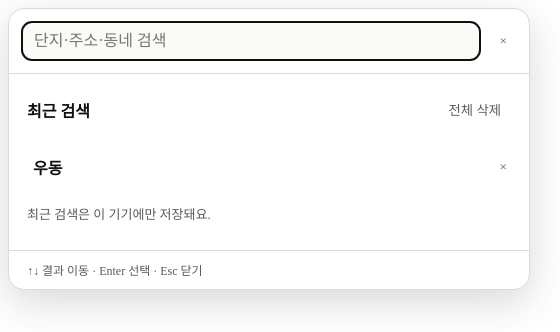
웹 검색 드롭다운 › 실패를 표시하고 재시도할 수 있다
This screenshot has width=560, height=332.
Type "해운대" into the dropdown at (251, 41), box [21,21,482,61]
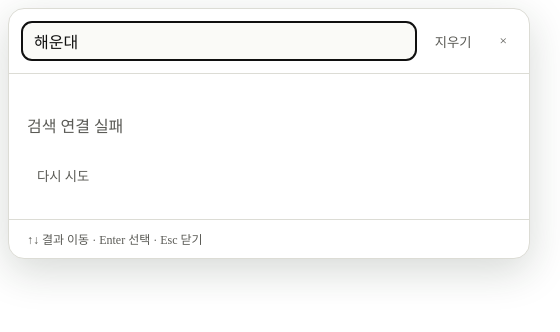
Expected: the text "검색 연결 실패" is shown, [27,118,123,135]
Click the button "다시 시도" at (63, 175), box [27,156,99,195]
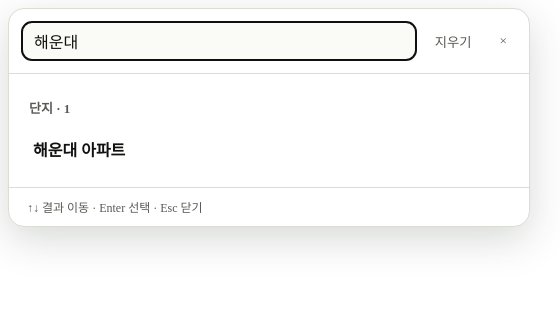
Expected: the option "해운대 아파트" is shown, [21,123,517,175]
